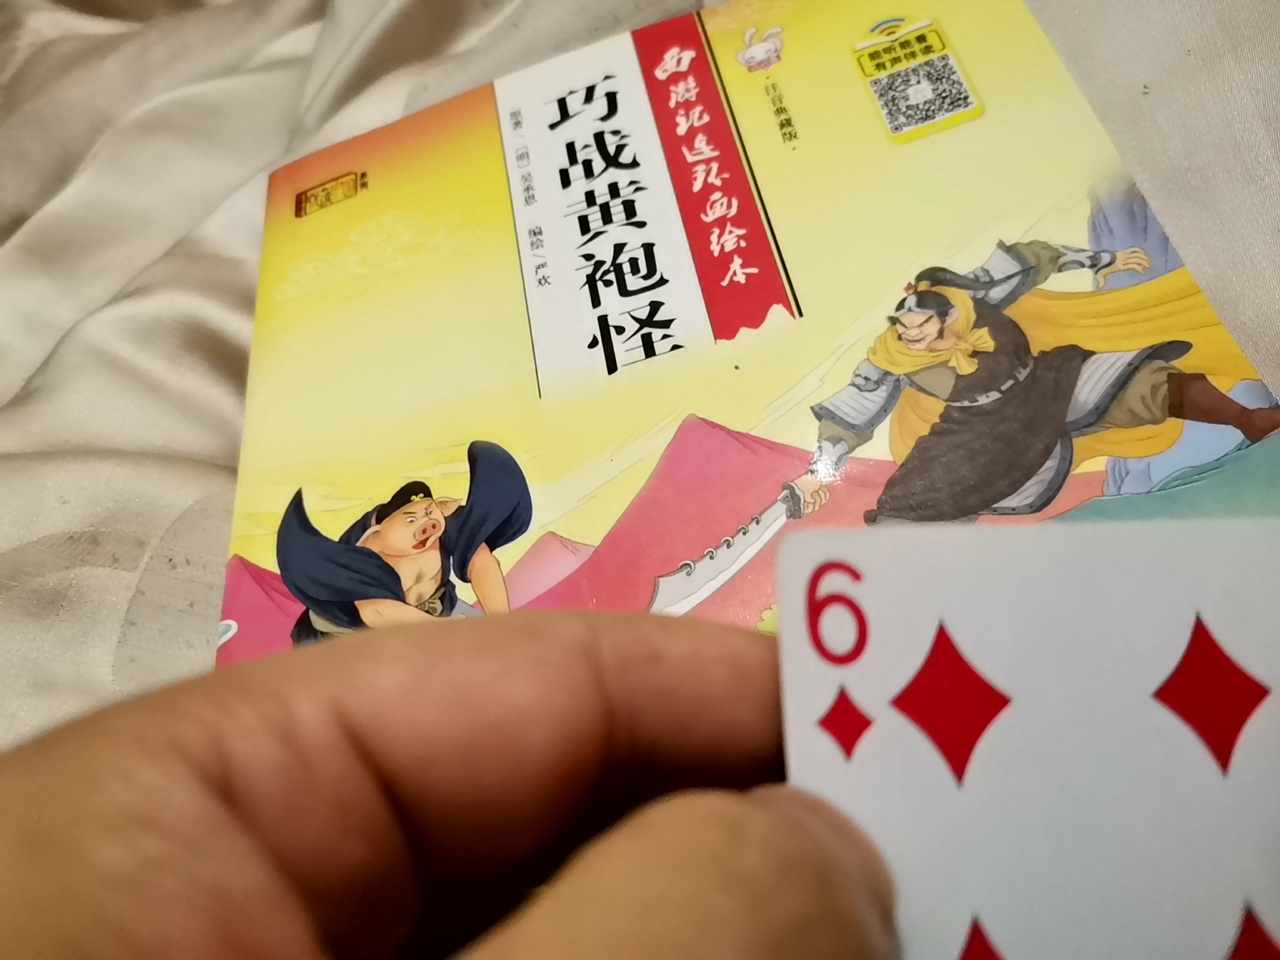fk 6: (737, 514, 1273, 957)
